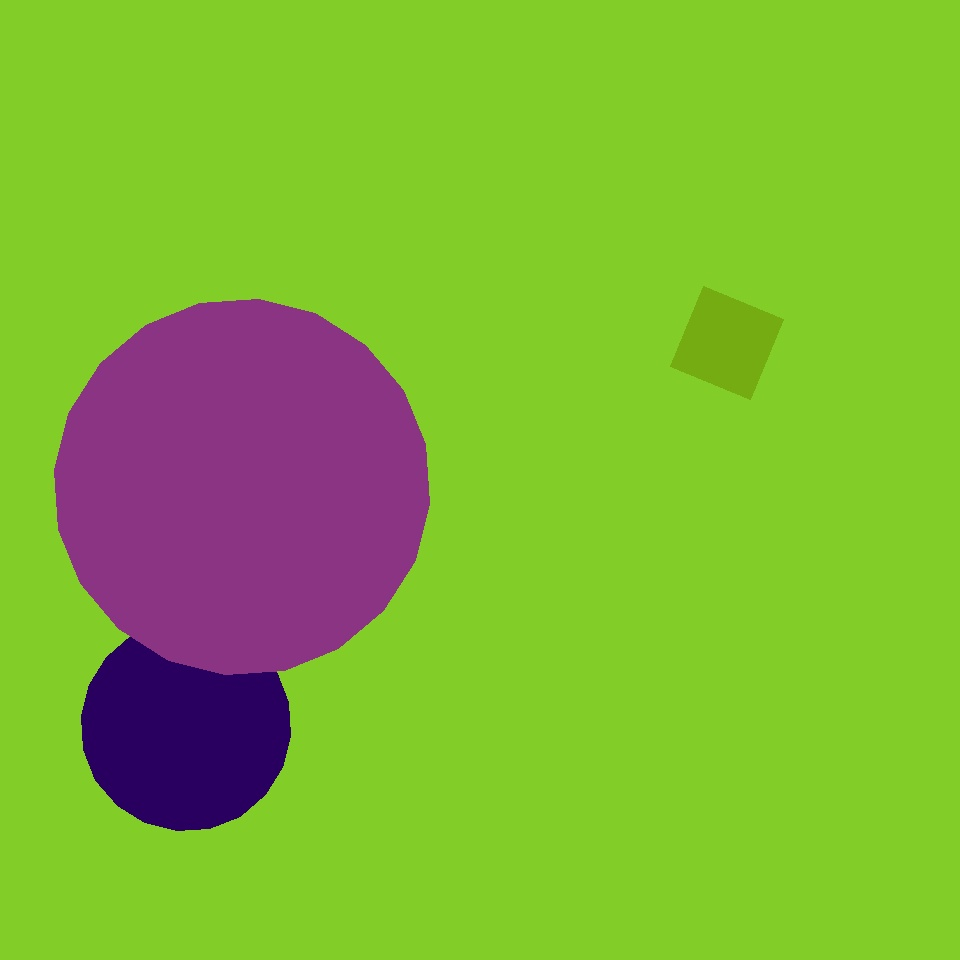square: (670, 286, 784, 400)
triangle: (54, 300, 430, 674), (82, 622, 290, 830)
